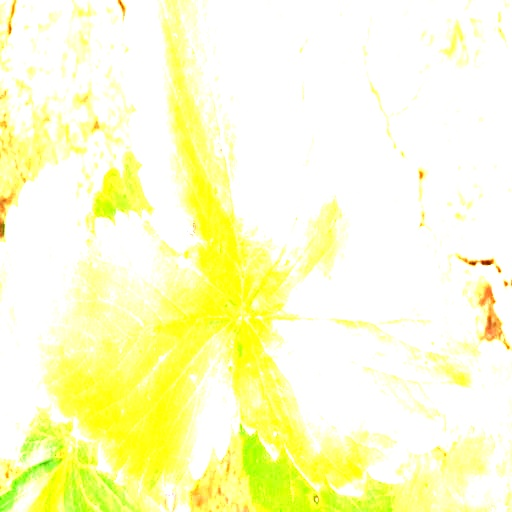Leaf Spot: (229, 190, 485, 498), (20, 209, 243, 498), (121, 0, 314, 314), (0, 164, 83, 458), (0, 439, 198, 511), (236, 429, 396, 511), (441, 424, 511, 511)
